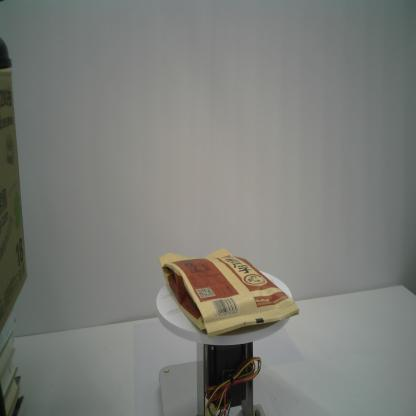Dried Food: (157, 245, 300, 338)
